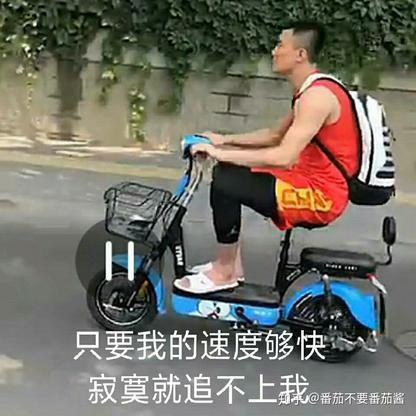target: (82, 22, 401, 333)
